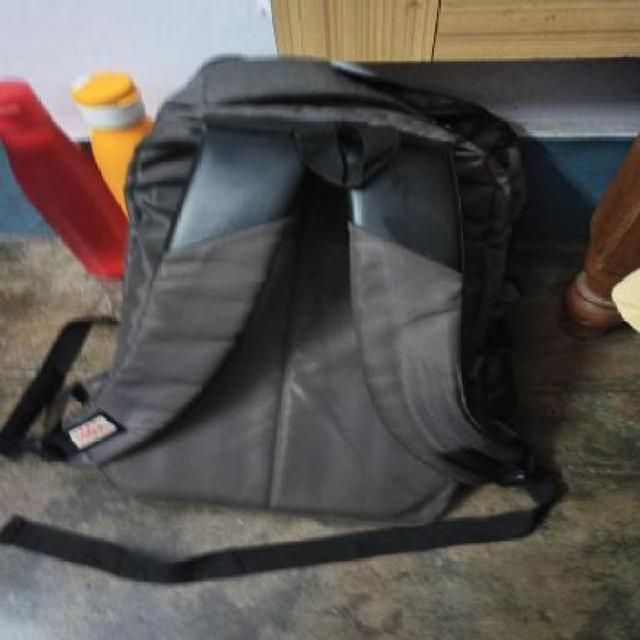backpack: (45, 49, 537, 536)
